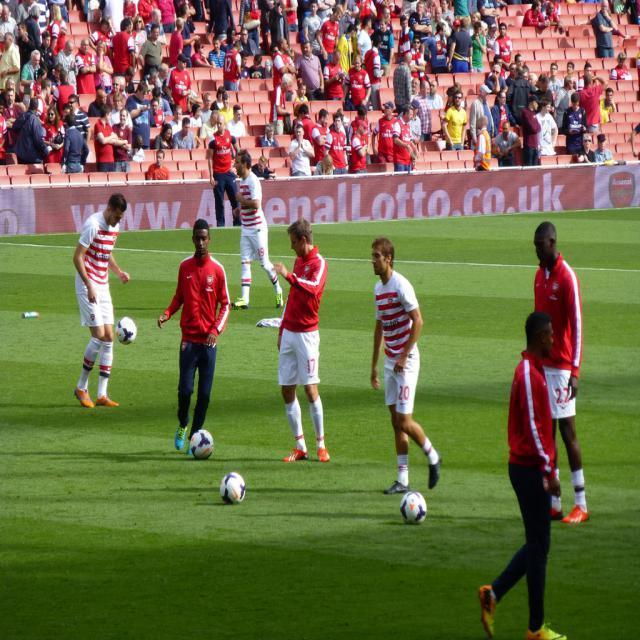football: (397, 489, 436, 526), (217, 473, 249, 507), (187, 429, 218, 461), (113, 314, 142, 348)
